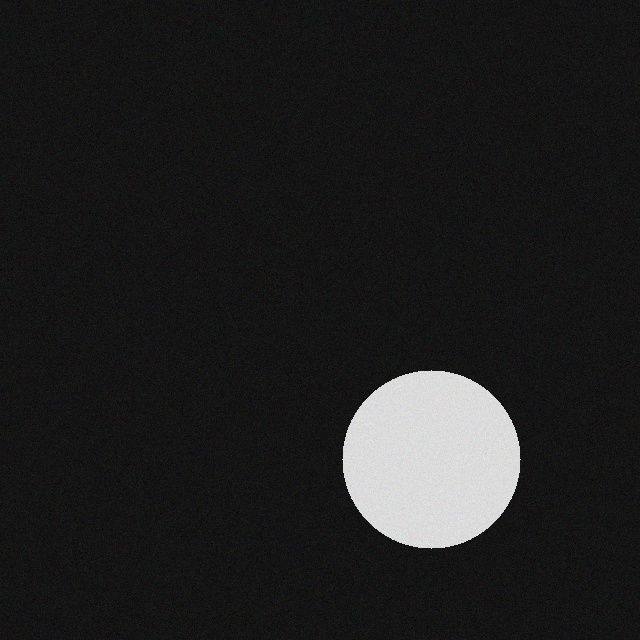circle: (344, 368, 522, 546)
